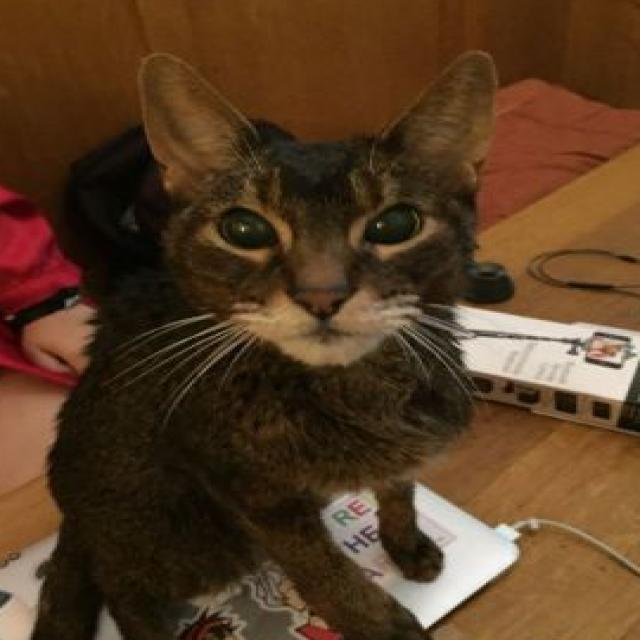Abyssinian: (24, 44, 512, 640)
